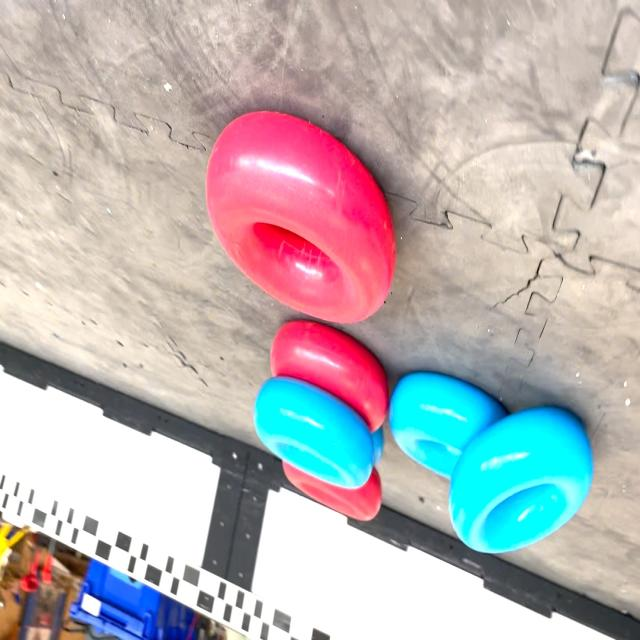Blue-Ring: (449, 407, 592, 553), (254, 378, 375, 489), (389, 371, 505, 478)
Red-Ring: (206, 111, 396, 322), (270, 320, 389, 431), (282, 460, 381, 520)
